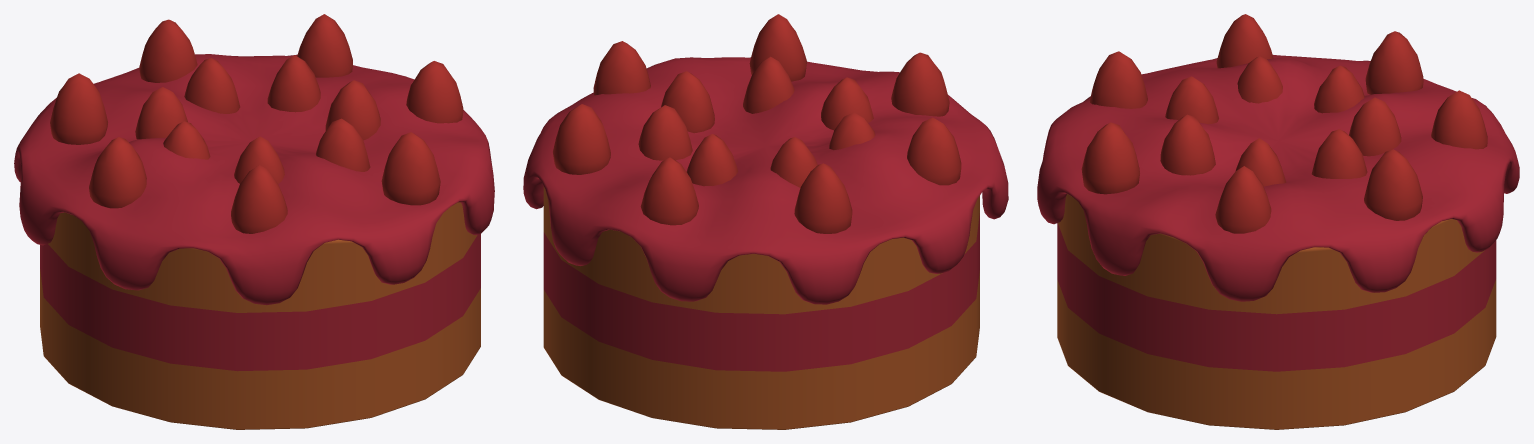
Rendered from Cake03.fbx.
The picture shows the model from 3 angles, left to right: view 1: azimuth 30°, elevation 25°; view 2: azimuth 150°, elevation 25°; view 3: azimuth 270°, elevation 25°; orthographic projection.
Visible parts, largest first — view 1: Cake03; view 2: Cake03; view 3: Cake03.
Part boxes in pixels (x1,y1,x2,y2): Cake03: (14,14,494,429); Cake03: (523,14,1008,429); Cake03: (1037,14,1519,429).
Size of the model in its own units: 1090 by 616 by 1090.
